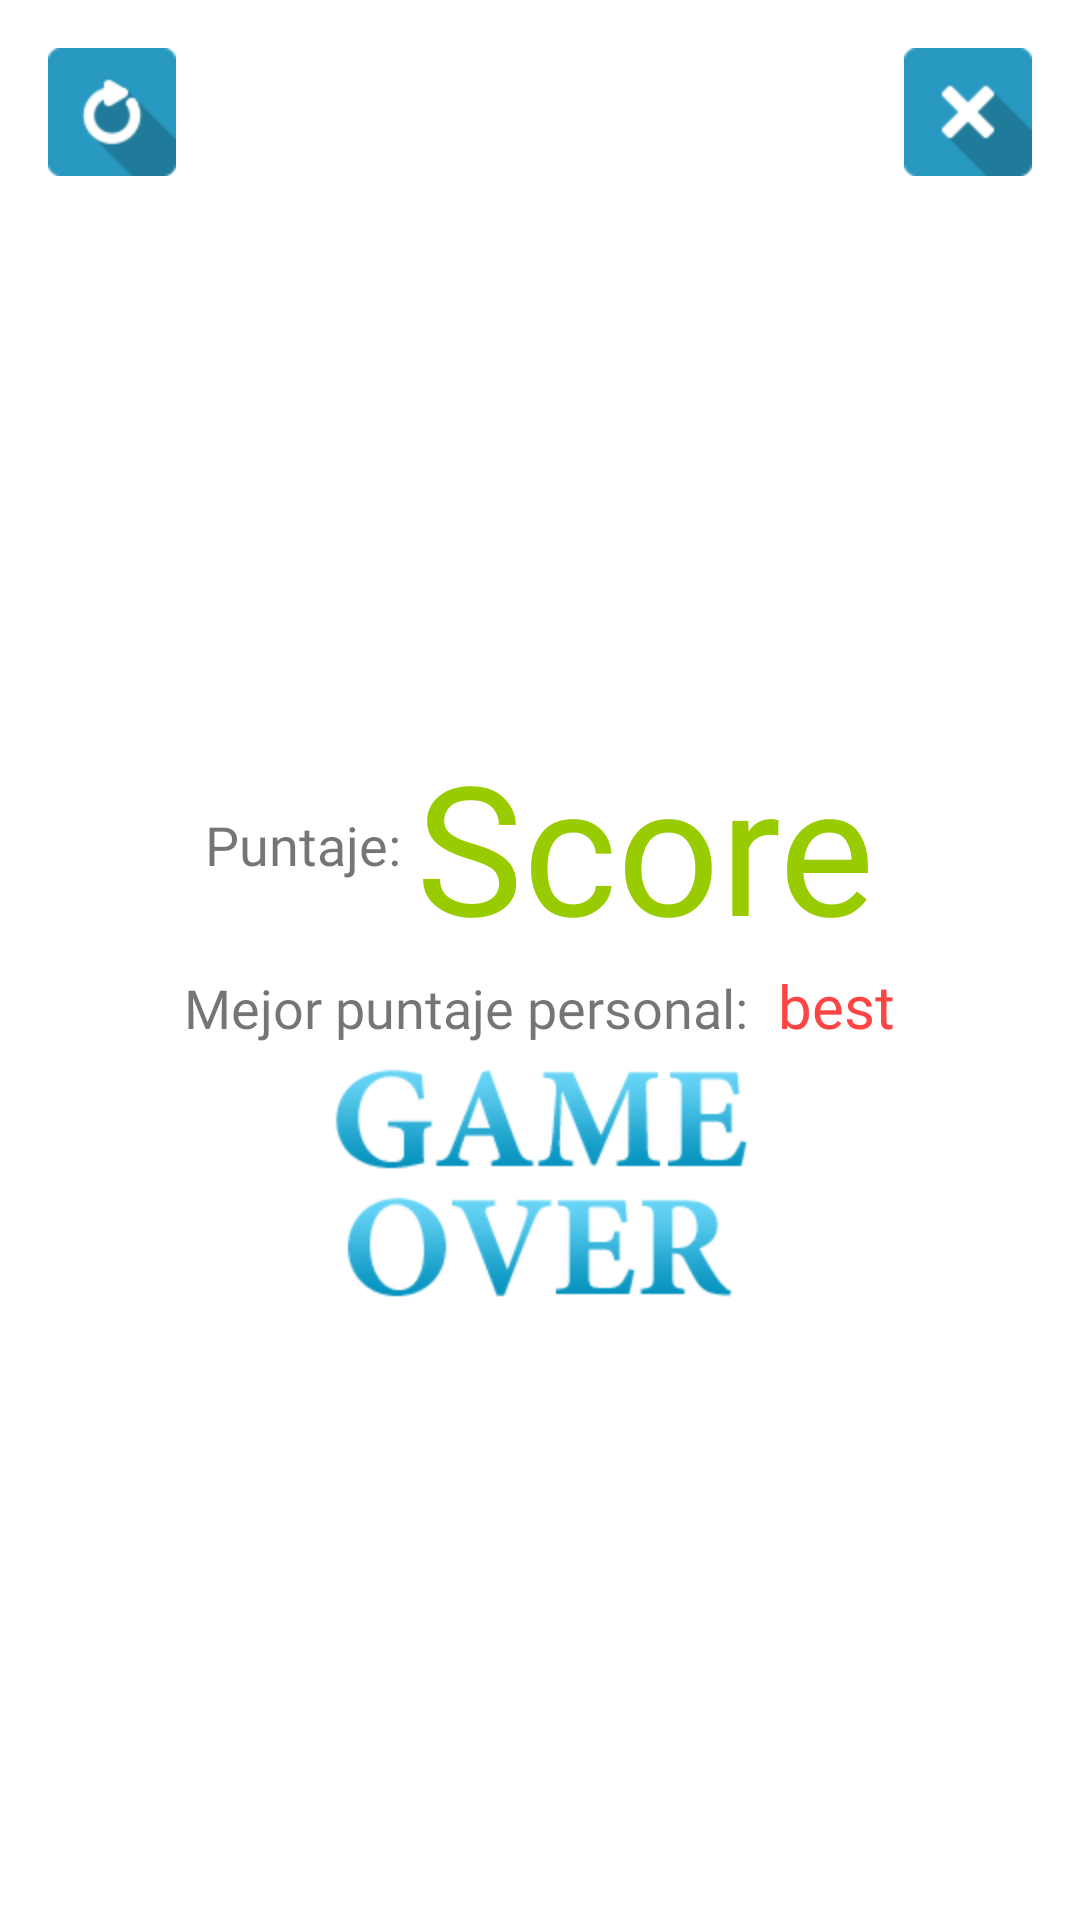

Locate icon controls on the screen. Image size 1080×1920, boxes as (x1, y1, x2, y2).
exit: (904, 48, 1032, 176)
restart: (48, 48, 176, 176)
